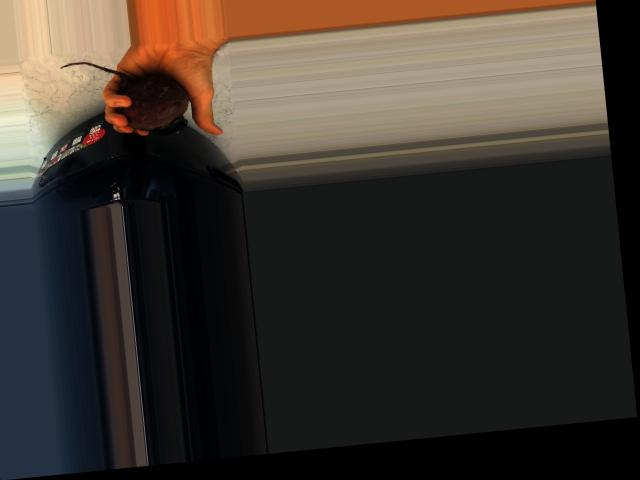beet: (59, 51, 191, 144)
